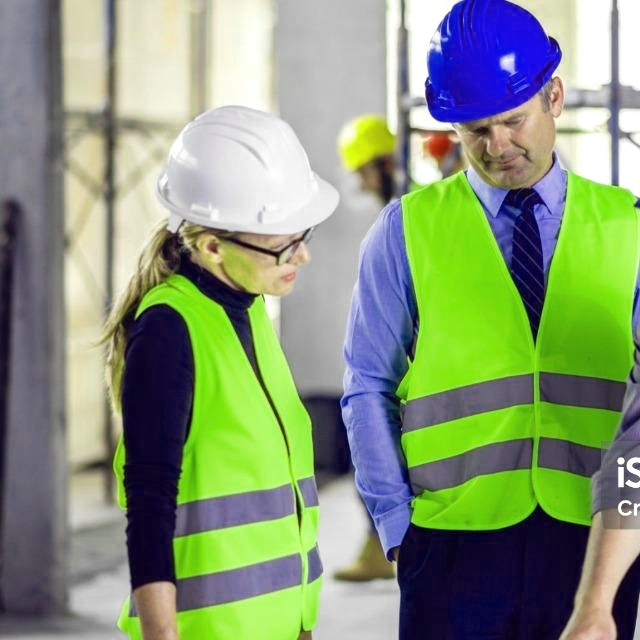Con_Casco: (155, 105, 337, 290), (422, 1, 566, 183)
Con_Chaleco: (395, 168, 627, 530), (116, 286, 326, 640)
